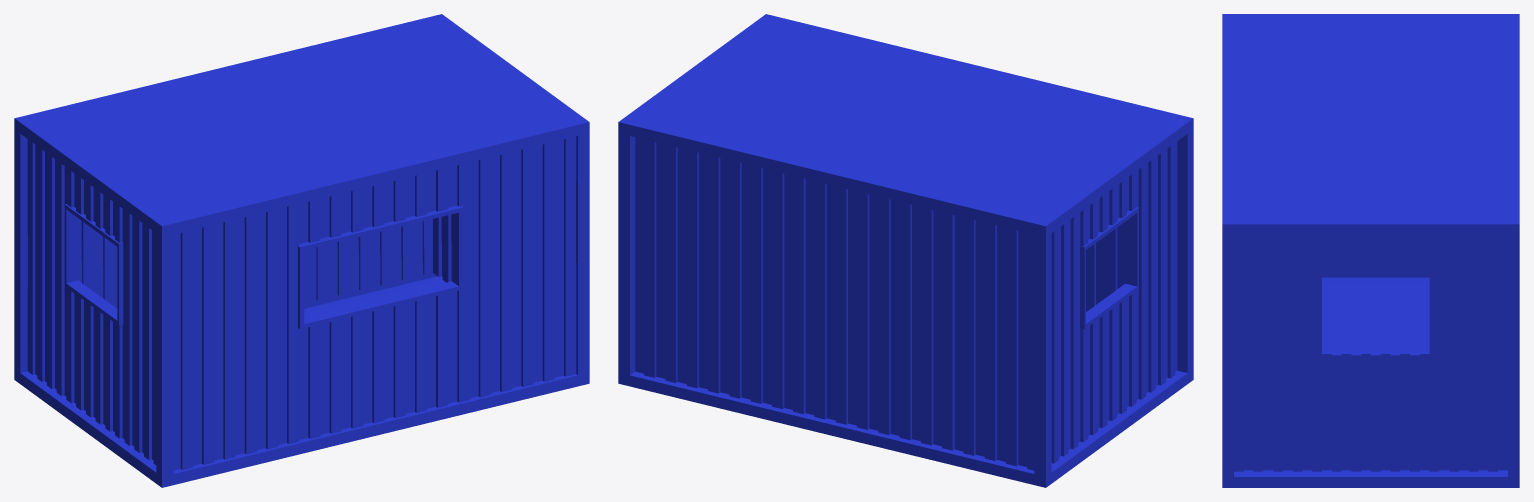
File: cargohouse.glb
3 views of the same model, side by side, from view 1: azimuth 30°, elevation 25°; view 2: azimuth 150°, elevation 25°; view 3: azimuth 270°, elevation 25° (orthographic).
Visible parts, largest first — view 1: BOX B2, winFrame1.002, winFrame1.004; view 2: BOX B2, winFrame1.004; view 3: BOX B2.
Boxes of the visible parts, x1,y1,x2,y2 form: BOX B2: (14, 14, 589, 487); winFrame1.002: (298, 205, 463, 329); winFrame1.004: (64, 204, 123, 325); BOX B2: (618, 14, 1193, 487); winFrame1.004: (1080, 207, 1138, 328); BOX B2: (1222, 14, 1519, 487).
Size of the model in its own units: 4.34 by 2.54 by 2.6.
